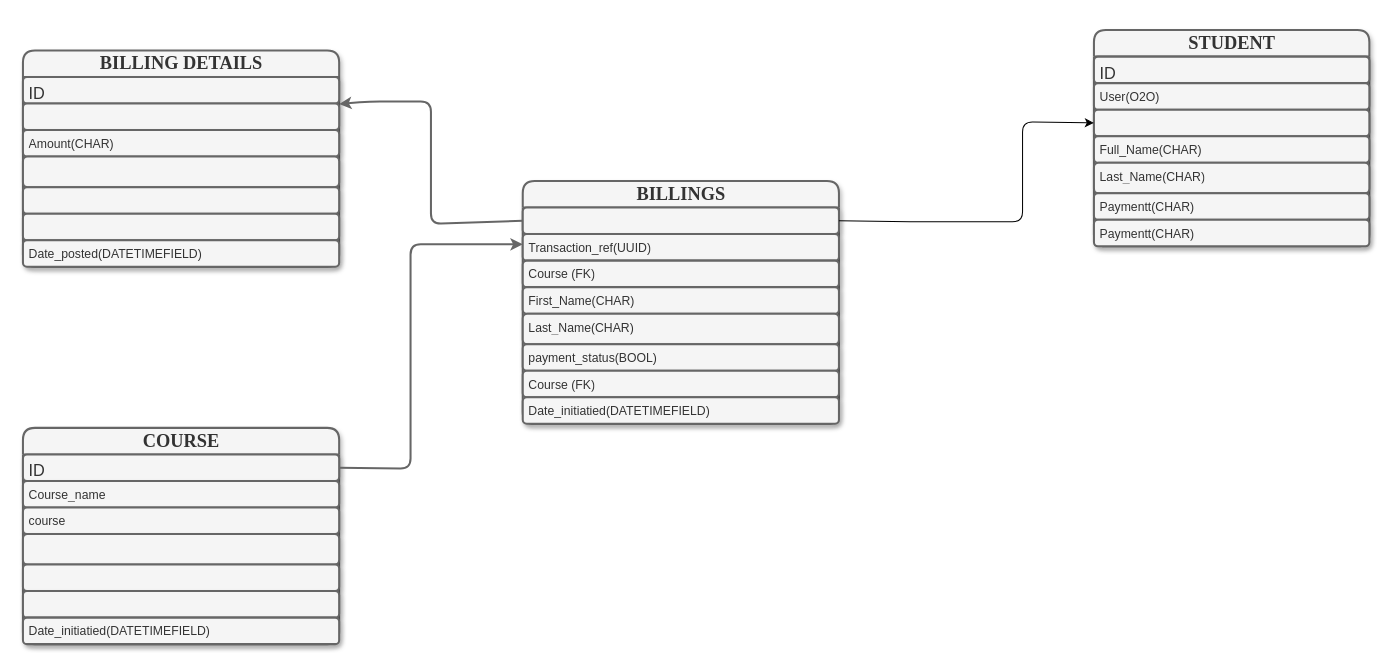
The diagram is 1393 pixels wide and 670 high, and some of its shapes have lost their labels. The centre of each missing label's shape, as x and y in pixels:
"Billings(FK)" belongs at (x=181, y=118).
"Billings(O2O)" belongs at (x=1232, y=124).
"ID(BIGINT)" belongs at (x=681, y=222).
